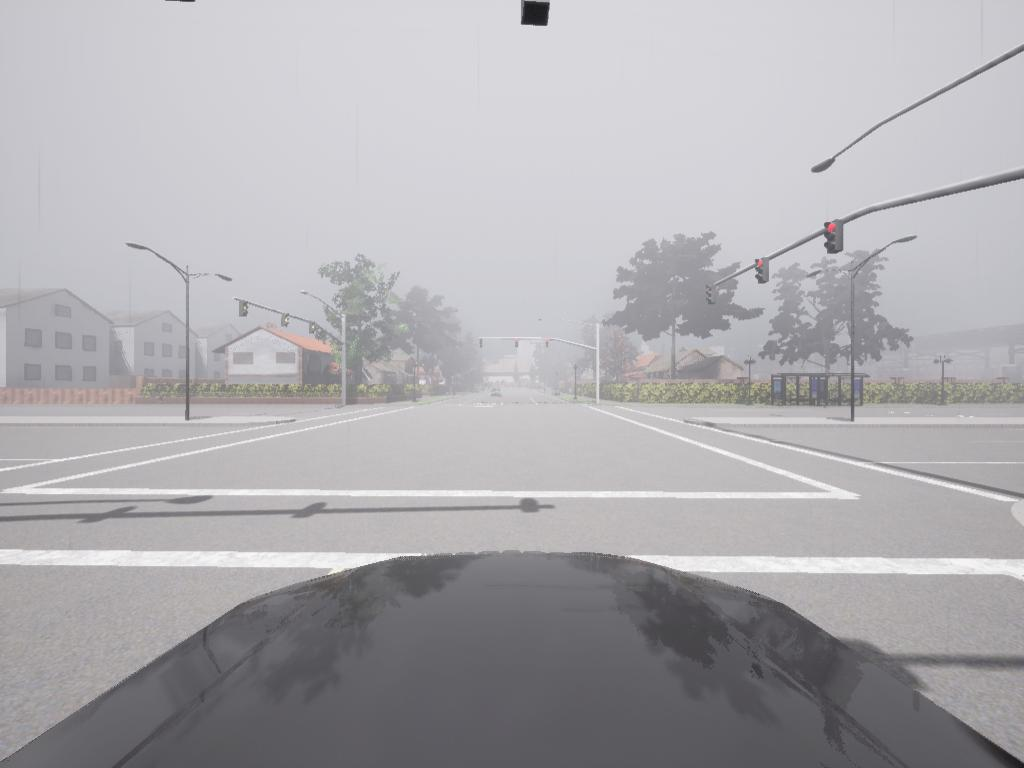traffic_light: (523, 3, 553, 28), (825, 222, 842, 255), (756, 260, 770, 285), (706, 284, 718, 307), (240, 299, 250, 319), (281, 313, 291, 330), (319, 327, 325, 341), (515, 340, 521, 353), (480, 339, 486, 351), (311, 323, 317, 335), (546, 340, 552, 351)
